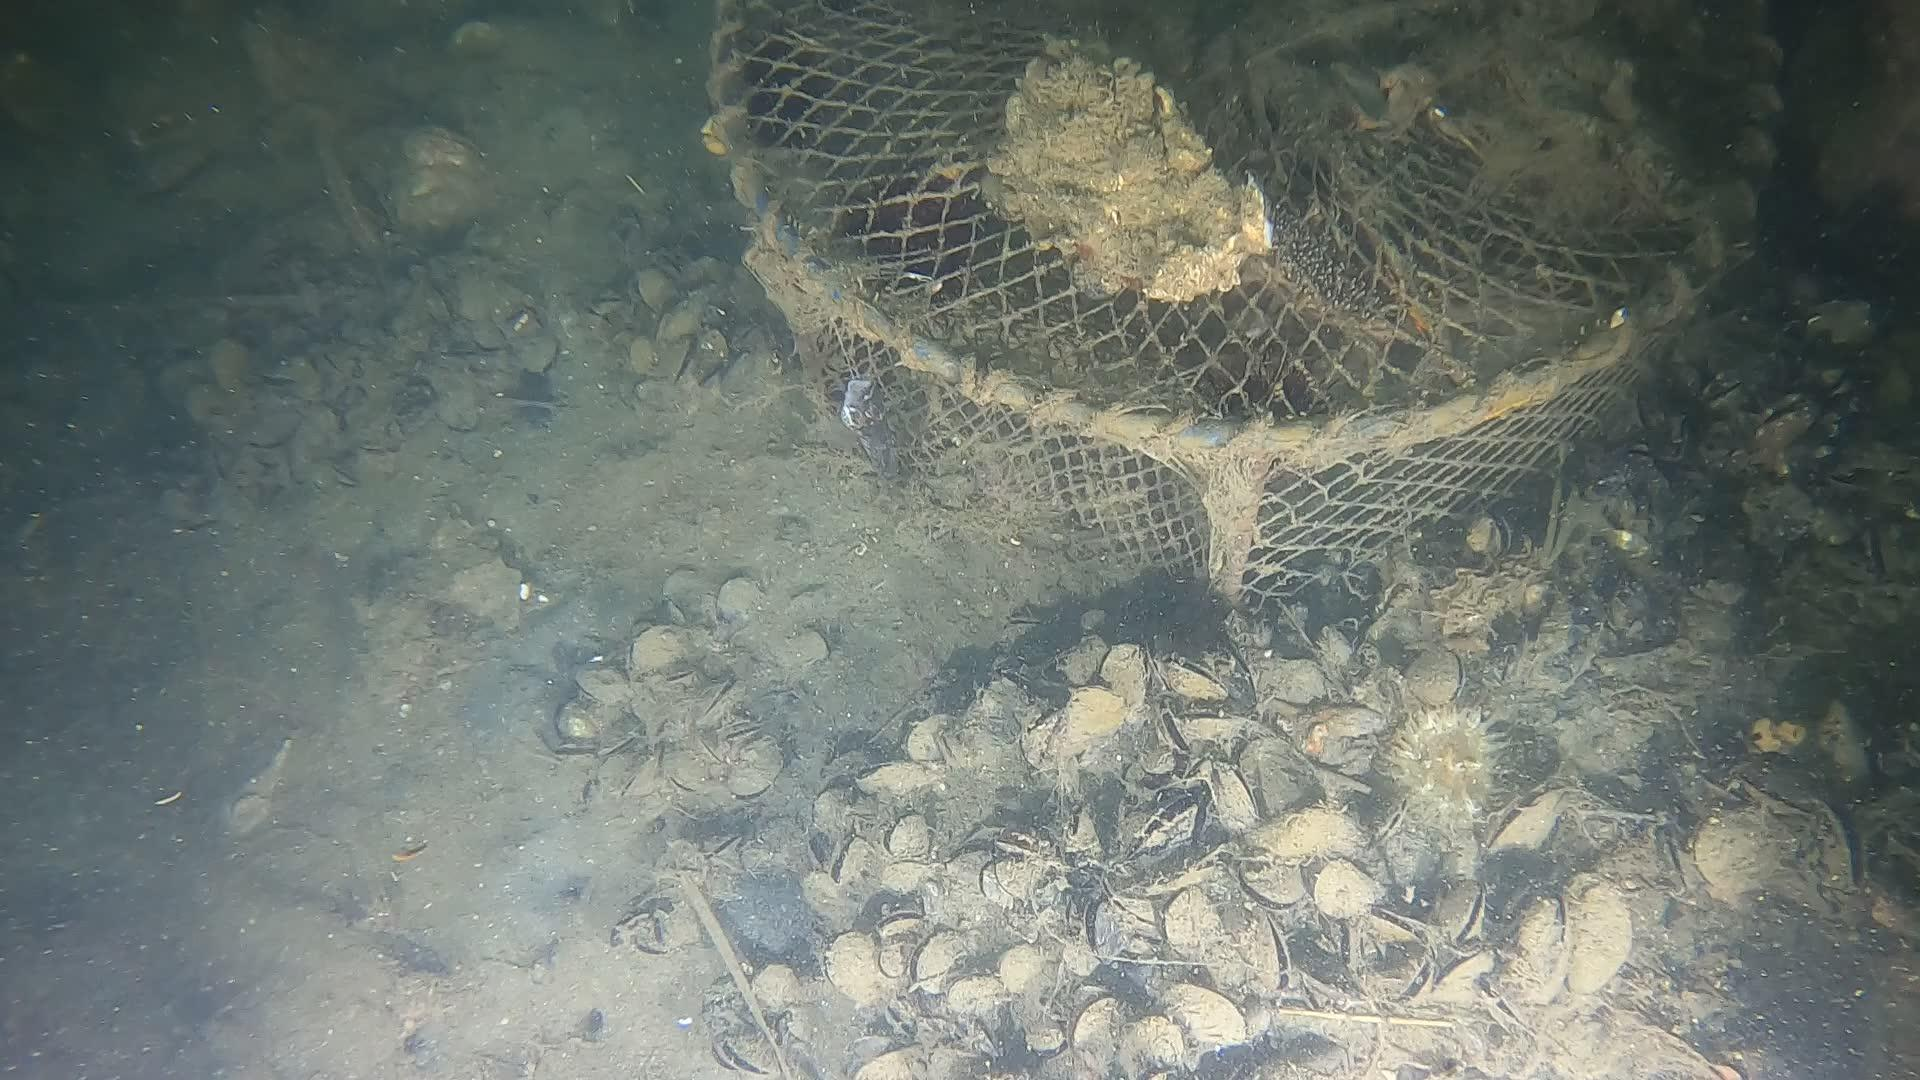circular fish trap: (703, 0, 1782, 617)
